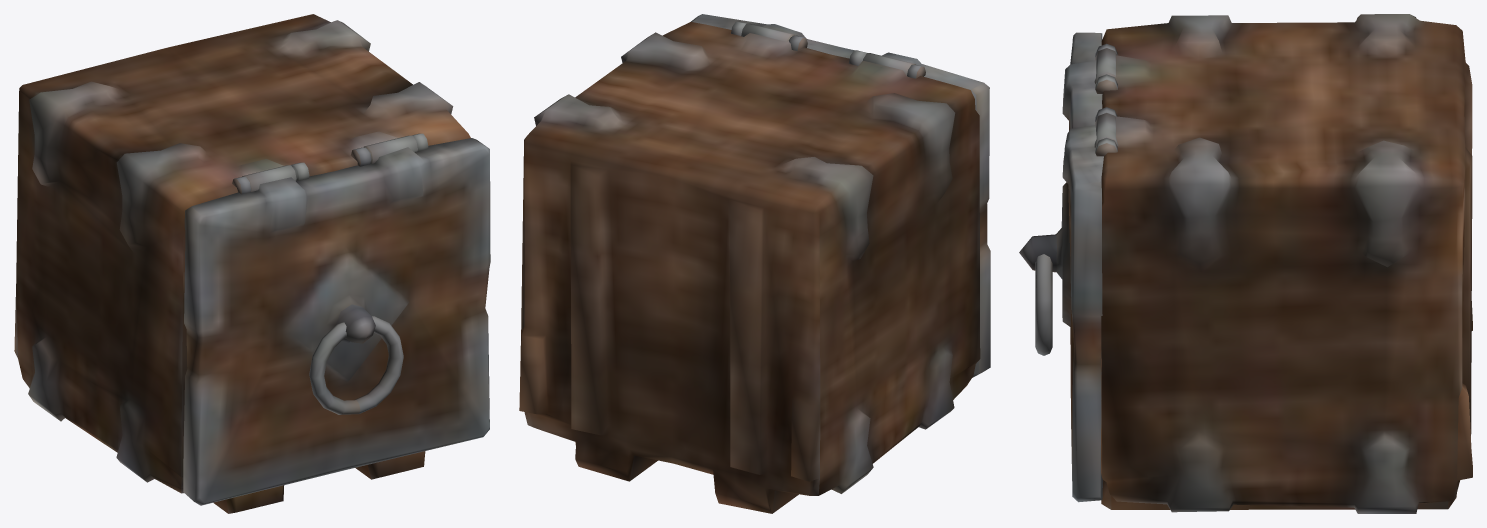
File: chest_medium.glb
3 views of the same model, side by side, from view 1: azimuth 30°, elevation 25°; view 2: azimuth 150°, elevation 25°; view 3: azimuth 270°, elevation 25° (orthographic). The views are drawn at different scales.
Visible parts, largest first — view 1: storage_chest_03; view 2: storage_chest_03; view 3: storage_chest_03.
Boxes of the visible parts, left/top/right/bottom form: storage_chest_03: left=14, top=14, right=490, bottom=513; storage_chest_03: left=519, top=14, right=990, bottom=513; storage_chest_03: left=1019, top=14, right=1472, bottom=513.
Bounding box in the file's own units: 1.02 × 1.03 × 1.15.
1 material, 1 textured.
